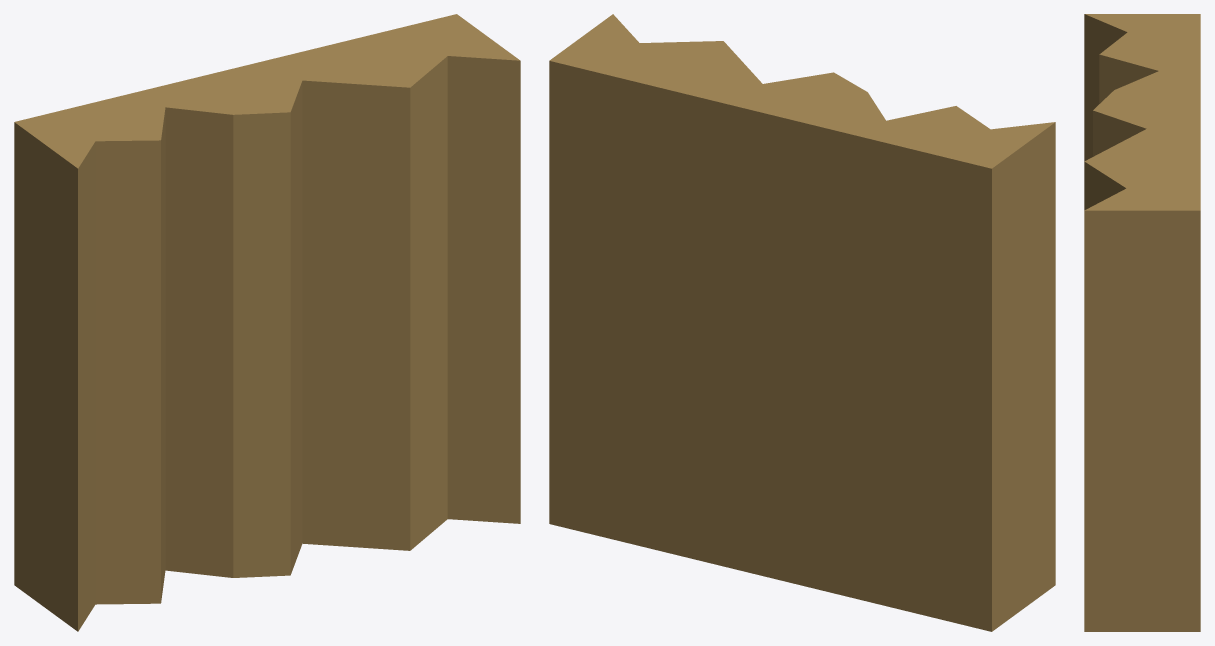
The model's file is Terrain_Tile_Dirt_Cliff_Face_Straight_01.fbx.
The picture shows the model from 3 angles, left to right: view 1: azimuth 30°, elevation 25°; view 2: azimuth 150°, elevation 25°; view 3: azimuth 270°, elevation 25°; orthographic projection. The views are drawn at different scales.
Visible parts, largest first — view 1: Terrain_Tile_Dirt_Cliff_Face_Straight_01; view 2: Terrain_Tile_Dirt_Cliff_Face_Straight_01; view 3: Terrain_Tile_Dirt_Cliff_Face_Straight_01.
Part boxes in pixels (x1,y1,x2,y2): Terrain_Tile_Dirt_Cliff_Face_Straight_01: (14,14,520,631); Terrain_Tile_Dirt_Cliff_Face_Straight_01: (549,14,1055,631); Terrain_Tile_Dirt_Cliff_Face_Straight_01: (1084,14,1200,631).
Bounding box in the file's own units: 126 × 126 × 31.5.
